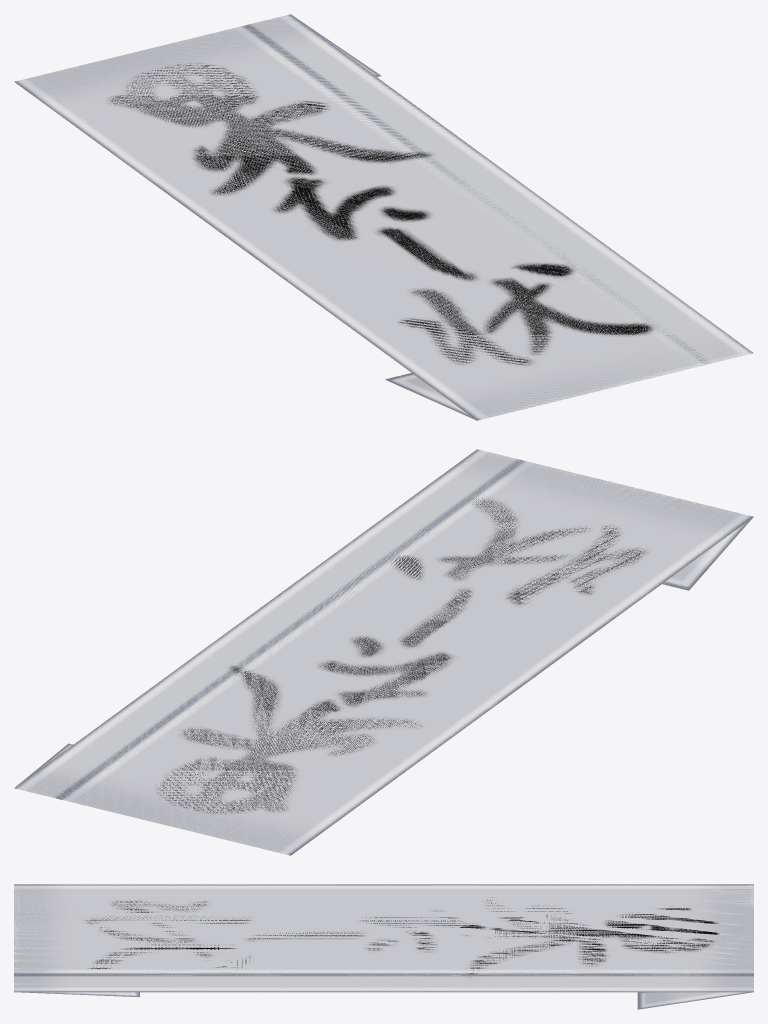
File: set_letter_02.fbx
3 renders of one model, top to bottom at view 1: azimuth 30°, elevation 25°; view 2: azimuth 150°, elevation 25°; view 3: azimuth 270°, elevation 25°, orthographic. The views are drawn at different scales.
Visible parts, largest first — view 1: set_letter_02; view 2: set_letter_02; view 3: set_letter_02.
Boxes of the visible parts, left/top/right/bottom form: set_letter_02: left=14, top=14, right=753, bottom=420; set_letter_02: left=14, top=449, right=753, bottom=855; set_letter_02: left=14, top=884, right=753, bottom=1009.
Bounding box in the file's own units: 10.04 × 0.4038 × 26.08.
